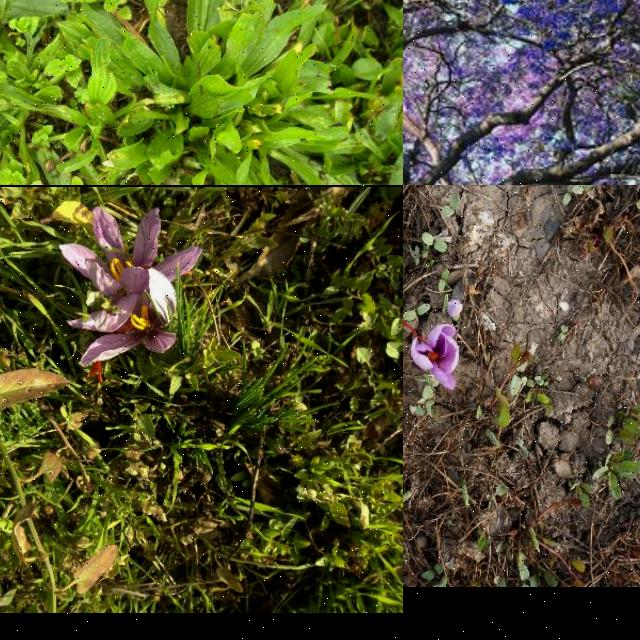flower: (403, 317, 459, 391)
overlap: (59, 206, 203, 382)
